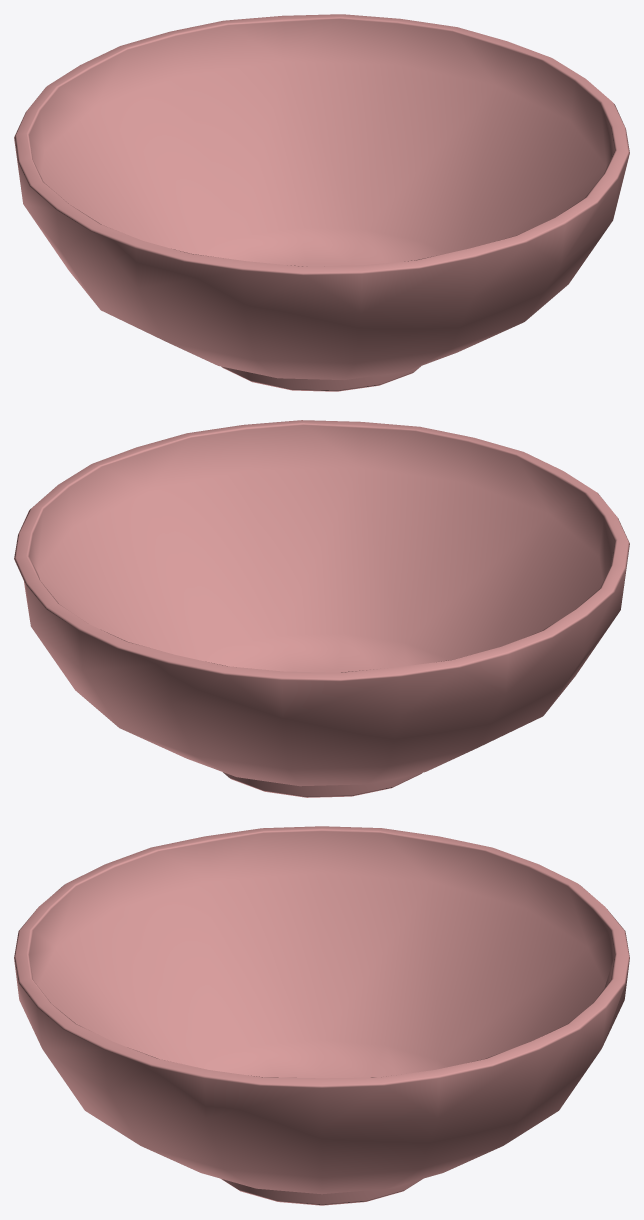
The model's file is Bowl01.fbx.
The picture shows the model from 3 angles, top to bottom: view 1: azimuth 30°, elevation 25°; view 2: azimuth 150°, elevation 25°; view 3: azimuth 270°, elevation 25°; orthographic projection.
Parts seen in each view (by area): view 1: Bowl_Body; view 2: Bowl_Body; view 3: Bowl_Body.
Boxes of the visible parts, bbox=[...] form: Bowl_Body: bbox=[14, 14, 629, 391]; Bowl_Body: bbox=[14, 420, 629, 797]; Bowl_Body: bbox=[14, 826, 629, 1205].
Size of the model in its own units: 20.02 by 7.3 by 20.02.
Materials: 1 (1 with a texture image).
